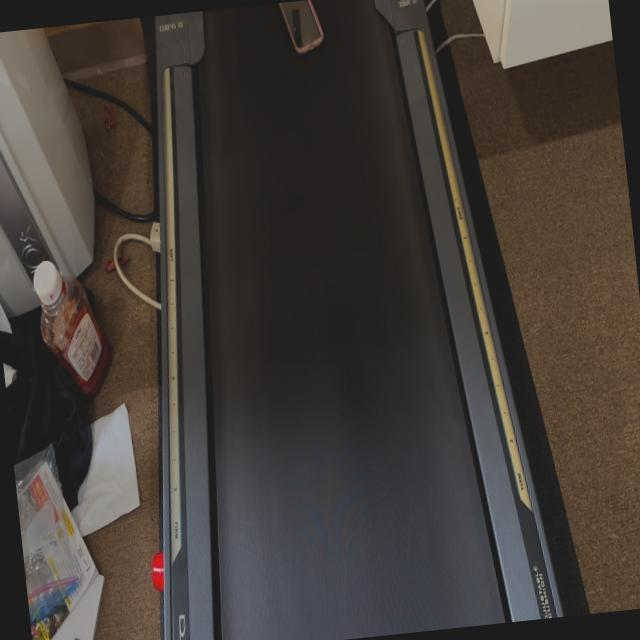Trash: (277, 0, 324, 58)
